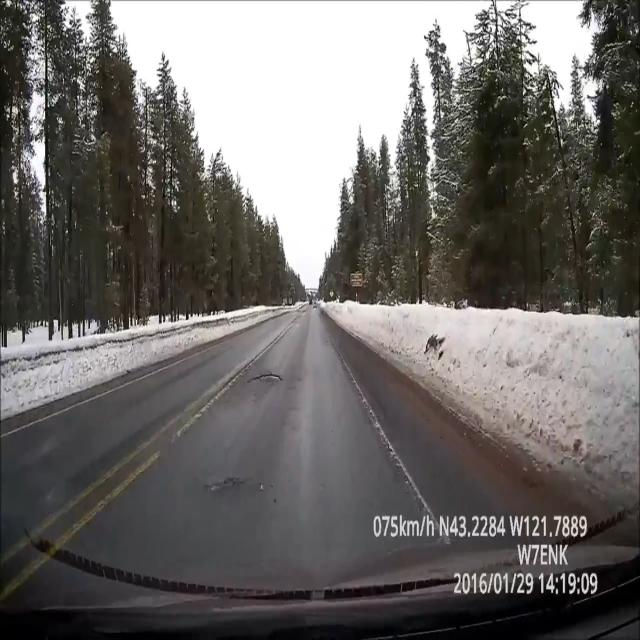Pothole: (247, 366, 286, 392)
